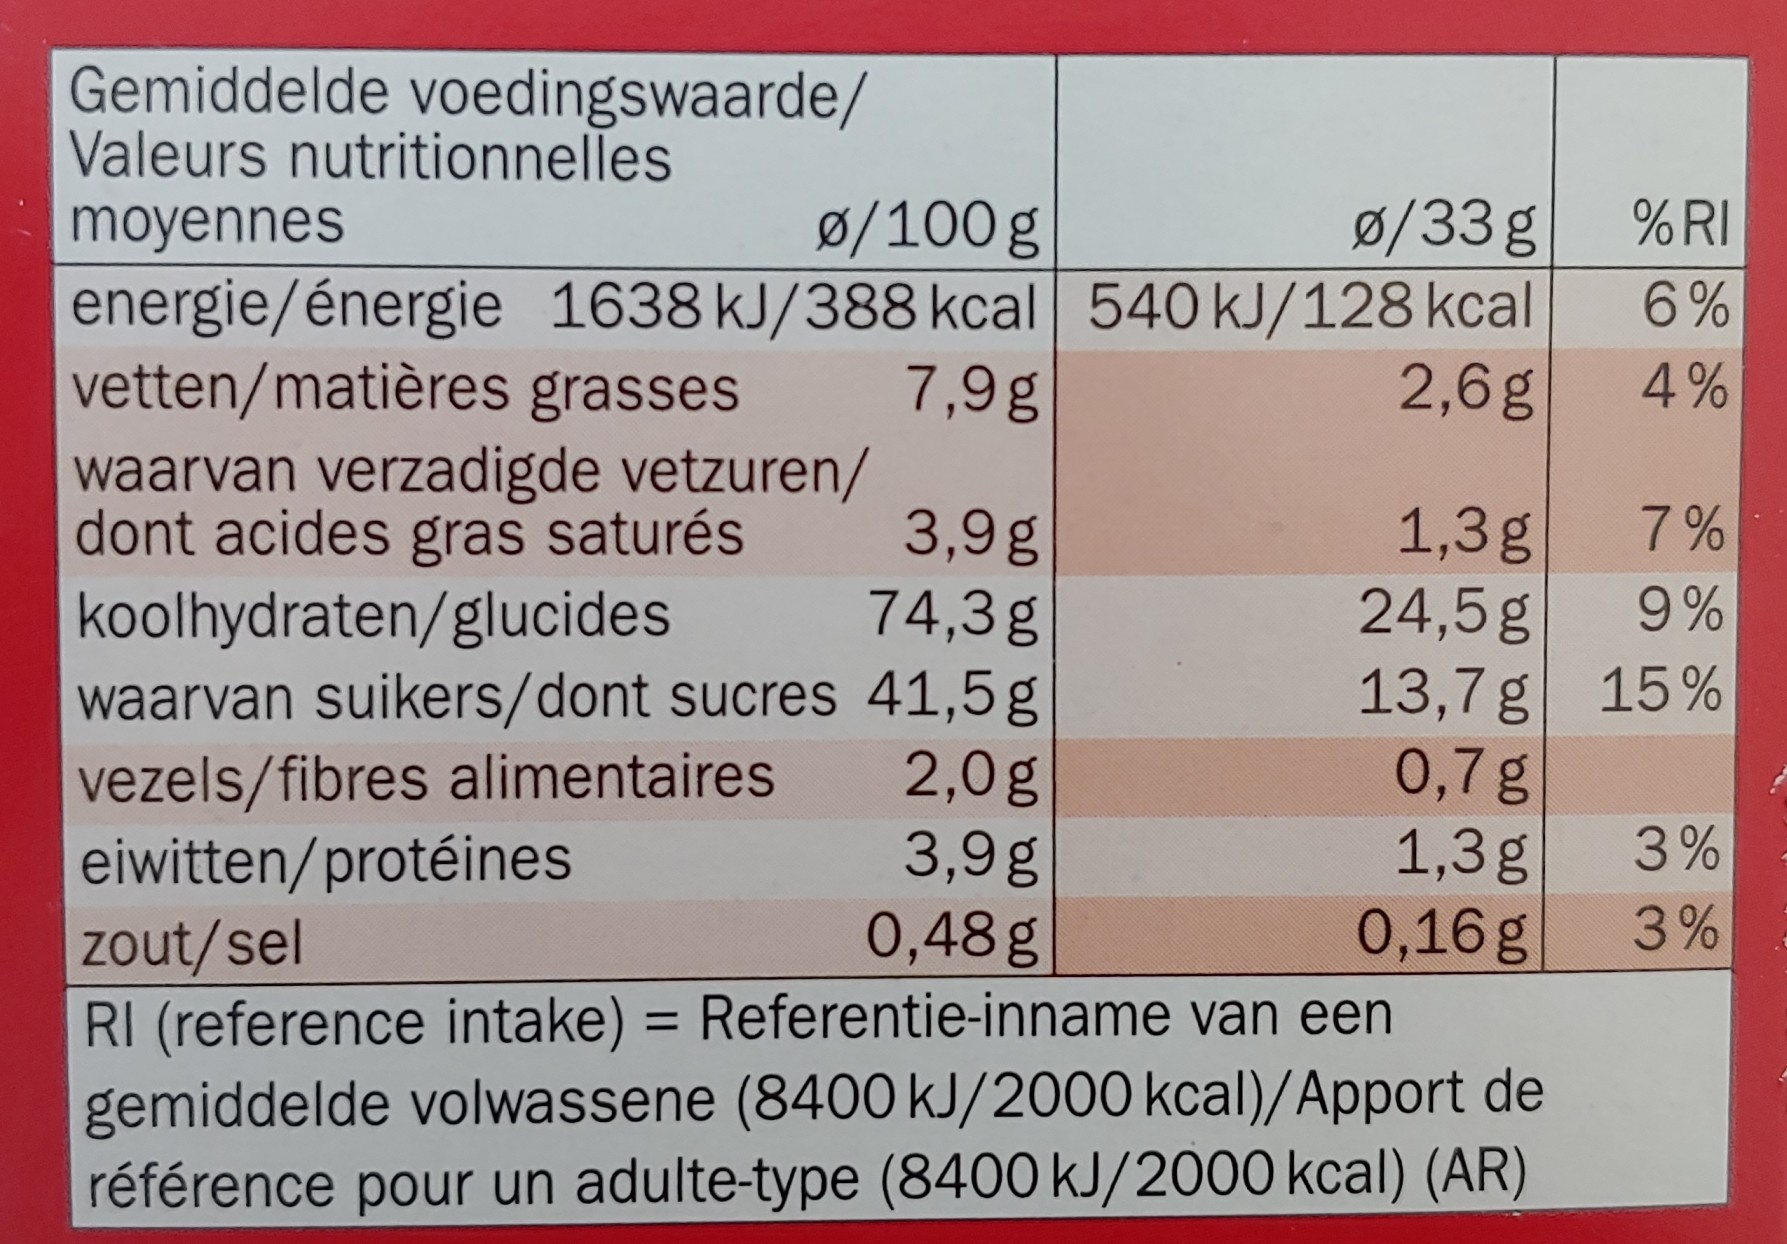column: (56, 58, 1039, 971), (1082, 129, 1540, 966), (1571, 125, 1729, 963)
table: (48, 42, 1748, 991)
